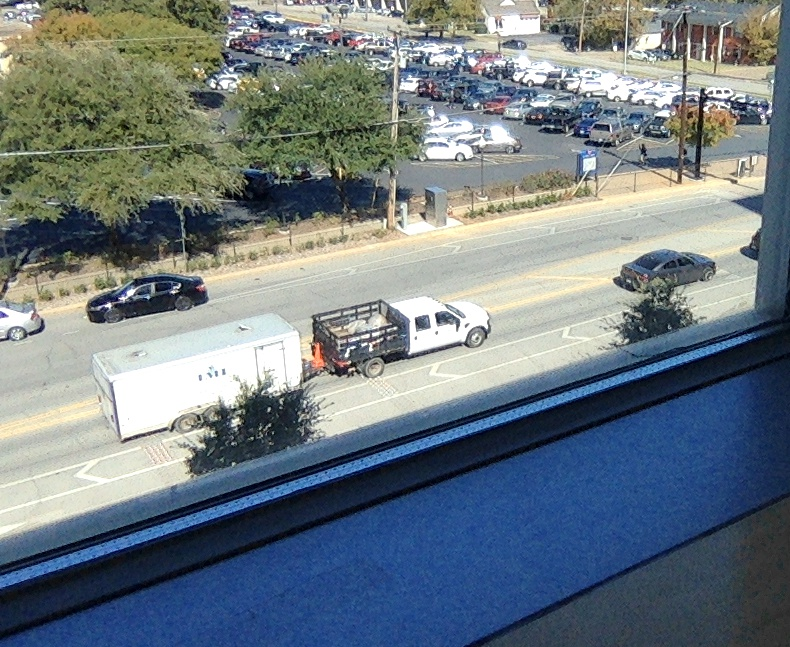car: (300, 300, 490, 383)
